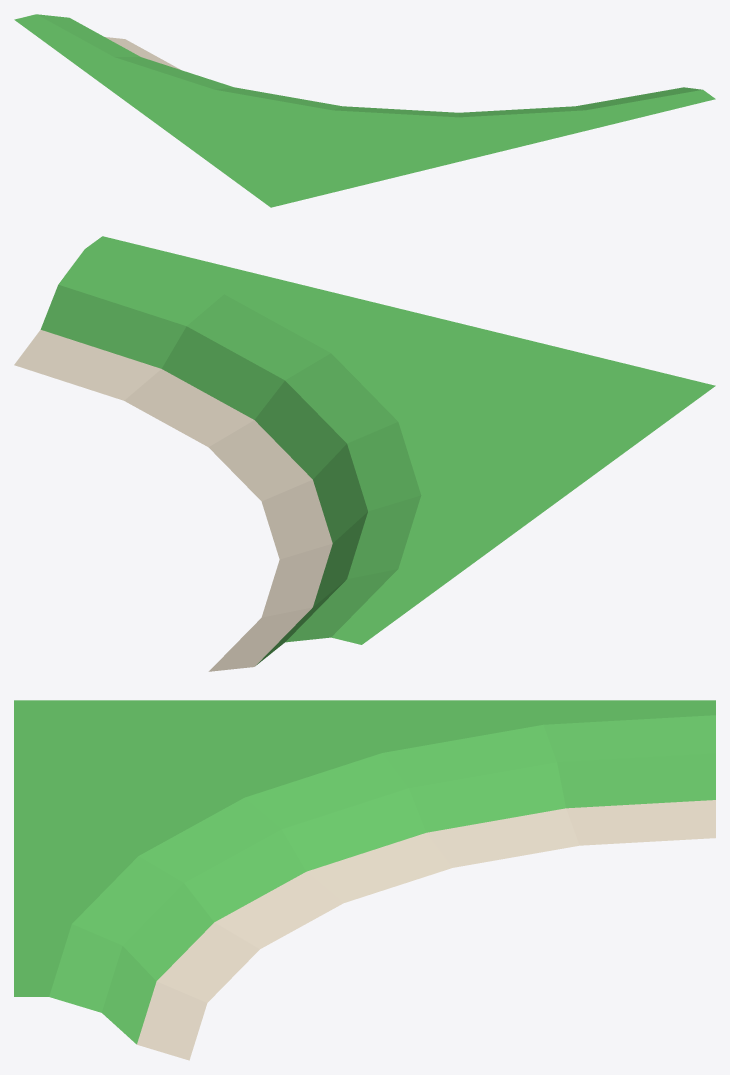
File: Hilly_Terrain_Path_Corner_Outer_2x2.glb
3 views of the same model, one above another, from view 1: azimuth 30°, elevation 25°; view 2: azimuth 150°, elevation 25°; view 3: azimuth 270°, elevation 25° (orthographic). The views are drawn at different scales.
Parts seen in each view (by area): view 1: Hilly_Terrain_Path_Corner_Outer_2x2; view 2: Hilly_Terrain_Path_Corner_Outer_2x2; view 3: Hilly_Terrain_Path_Corner_Outer_2x2.
Boxes of the visible parts, x1,y1,x2,y2 form: Hilly_Terrain_Path_Corner_Outer_2x2: (14,14,715,207); Hilly_Terrain_Path_Corner_Outer_2x2: (14,236,715,671); Hilly_Terrain_Path_Corner_Outer_2x2: (14,700,715,1060).
Bounding box in the file's own units: 1.06 × 0.106 × 1.06.
